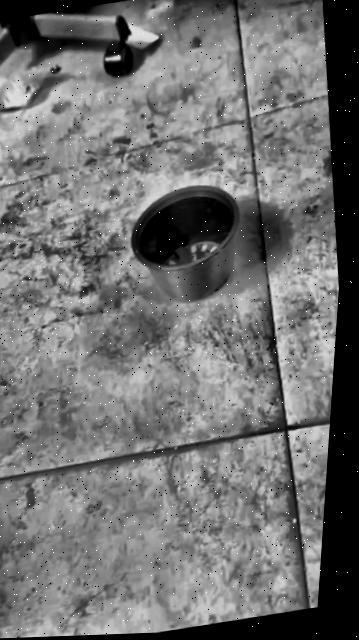pot: (120, 179, 248, 310)
